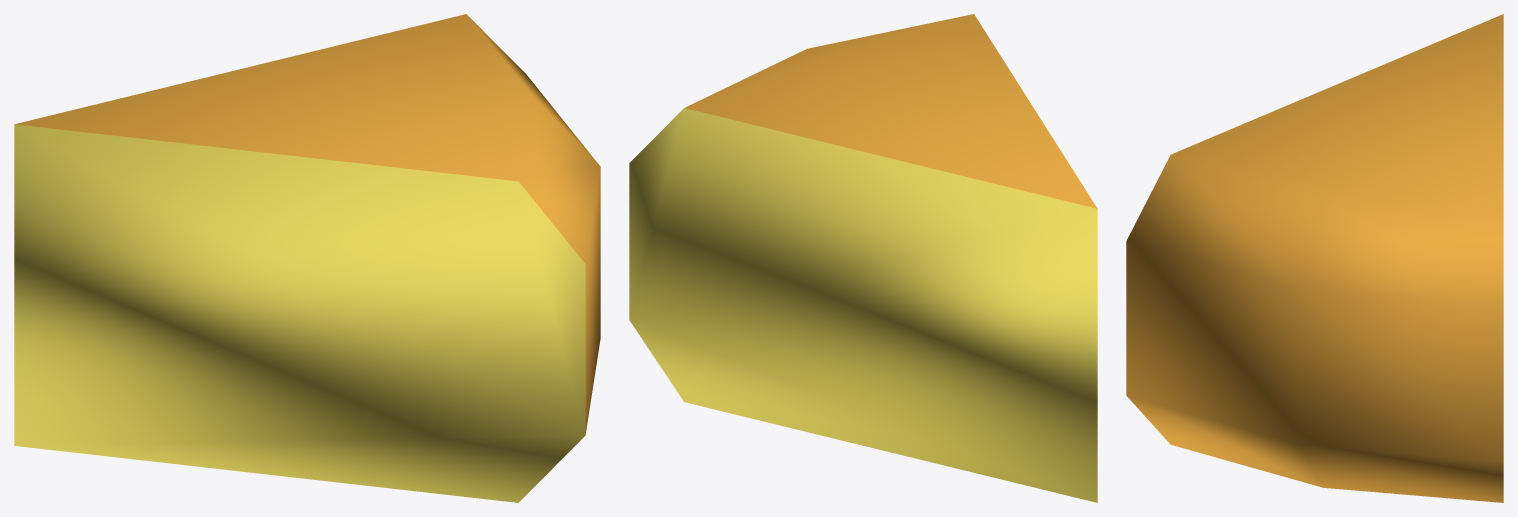
Rendered from CheeseSlice.fbx.
The picture shows the model from 3 angles, left to right: view 1: azimuth 30°, elevation 25°; view 2: azimuth 150°, elevation 25°; view 3: azimuth 270°, elevation 25°; orthographic projection. The views are drawn at different scales.
Visible parts, largest first — view 1: Cheese; view 2: Cheese; view 3: Cheese.
Boxes of the visible parts, box(x1,y1,x2,y2) form: Cheese: box(14, 14, 600, 502); Cheese: box(629, 14, 1097, 502); Cheese: box(1126, 14, 1503, 502).
Bounding box in the file's own units: 100 × 60 × 70.71.
